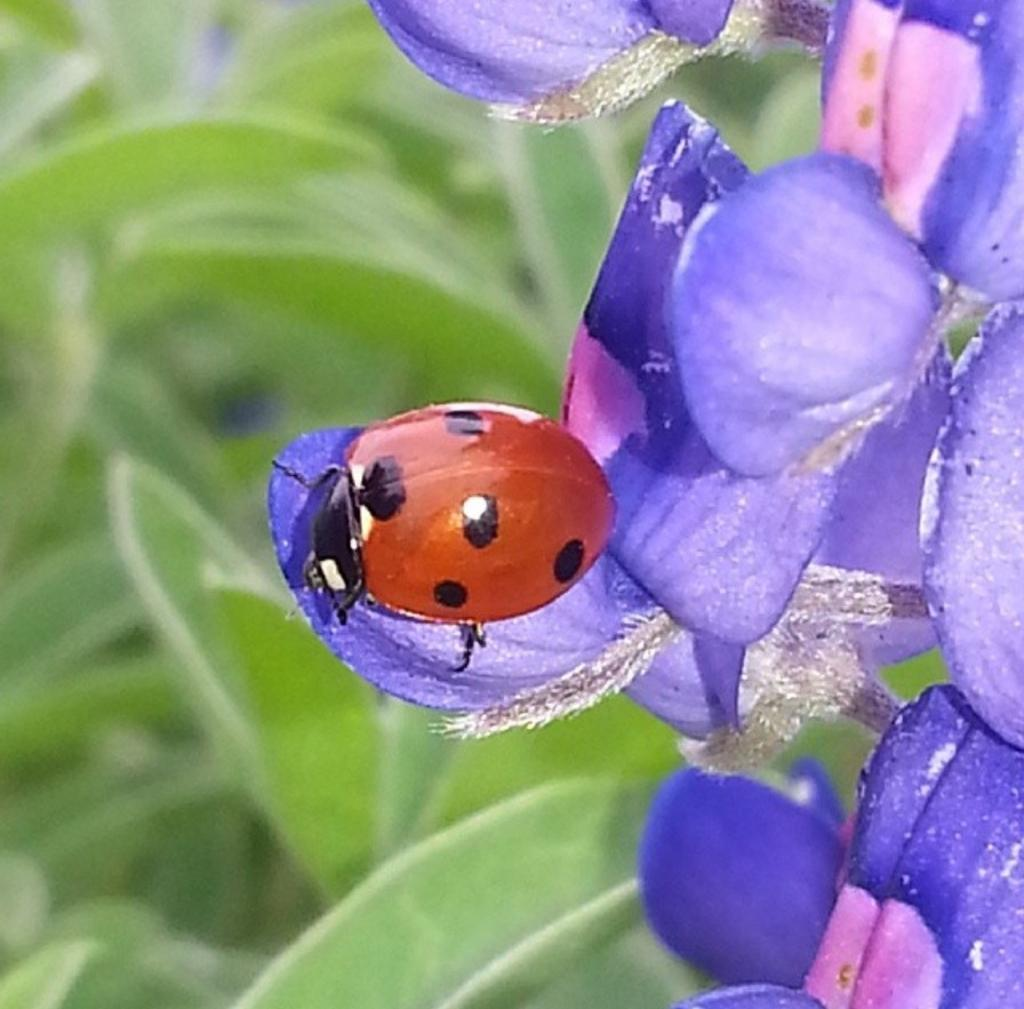ladybug: (274, 394, 624, 684)
